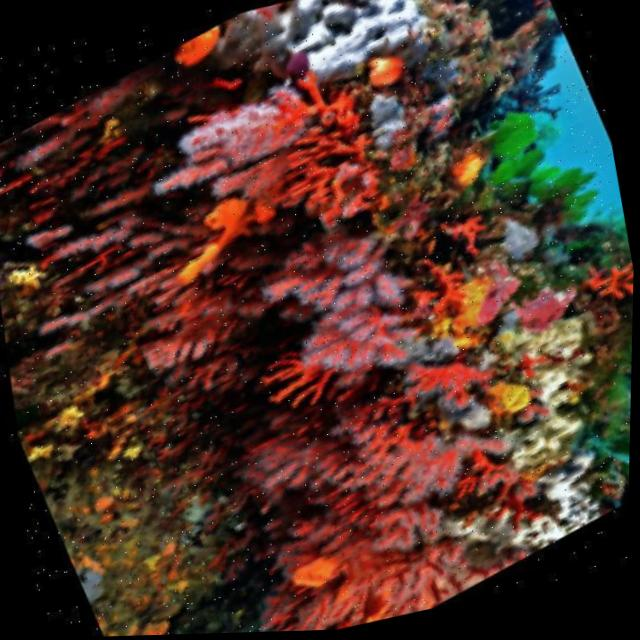Bleached Coral: (250, 0, 496, 95), (521, 456, 619, 552)
Healthy Coral: (206, 344, 542, 635), (191, 167, 517, 458), (124, 16, 447, 297), (415, 43, 634, 291), (423, 263, 618, 479), (110, 160, 309, 317), (566, 237, 636, 348)
